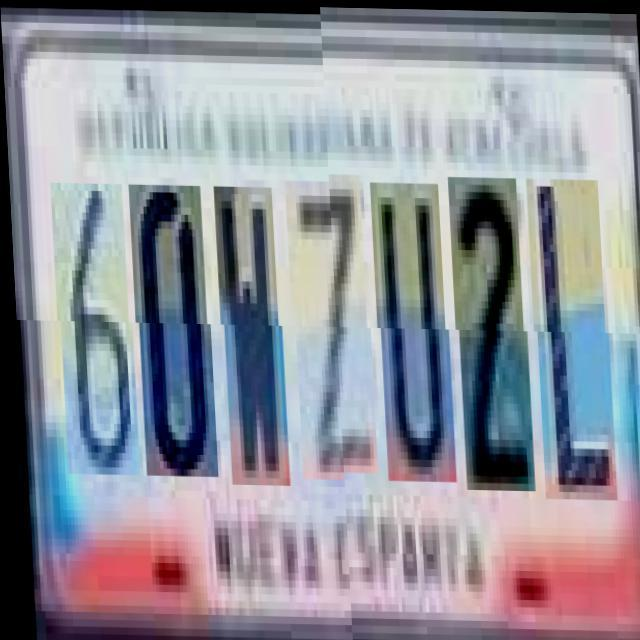0: (130, 184, 214, 476)
2: (450, 183, 530, 497)
6: (52, 183, 135, 475)
L: (528, 183, 612, 504)
U: (372, 188, 452, 488)
W: (215, 186, 285, 484)
Z: (286, 180, 373, 478)
